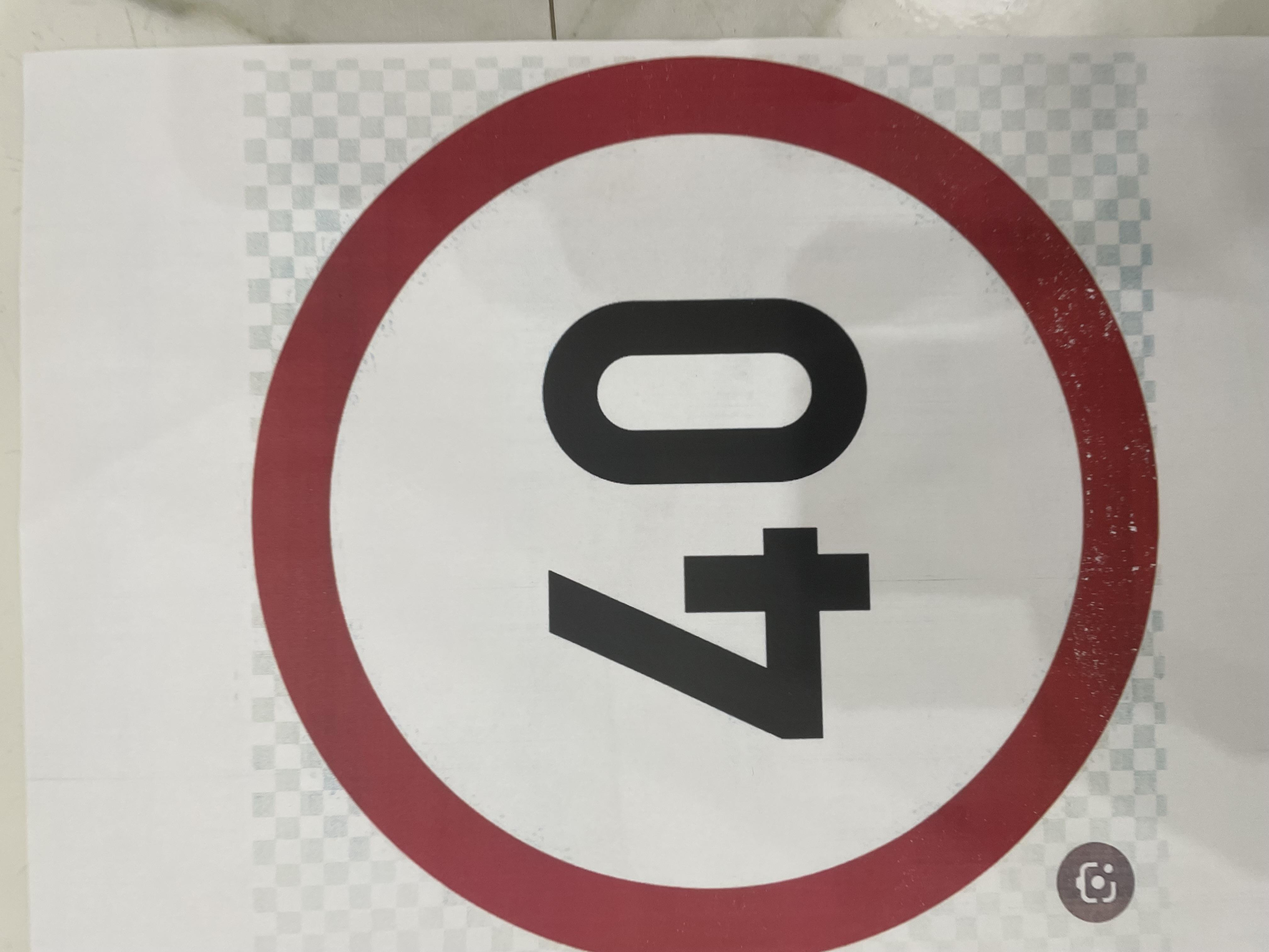40-Speed: (30, 159, 1214, 885)
